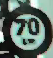Speed limit: (0, 5, 52, 53)
